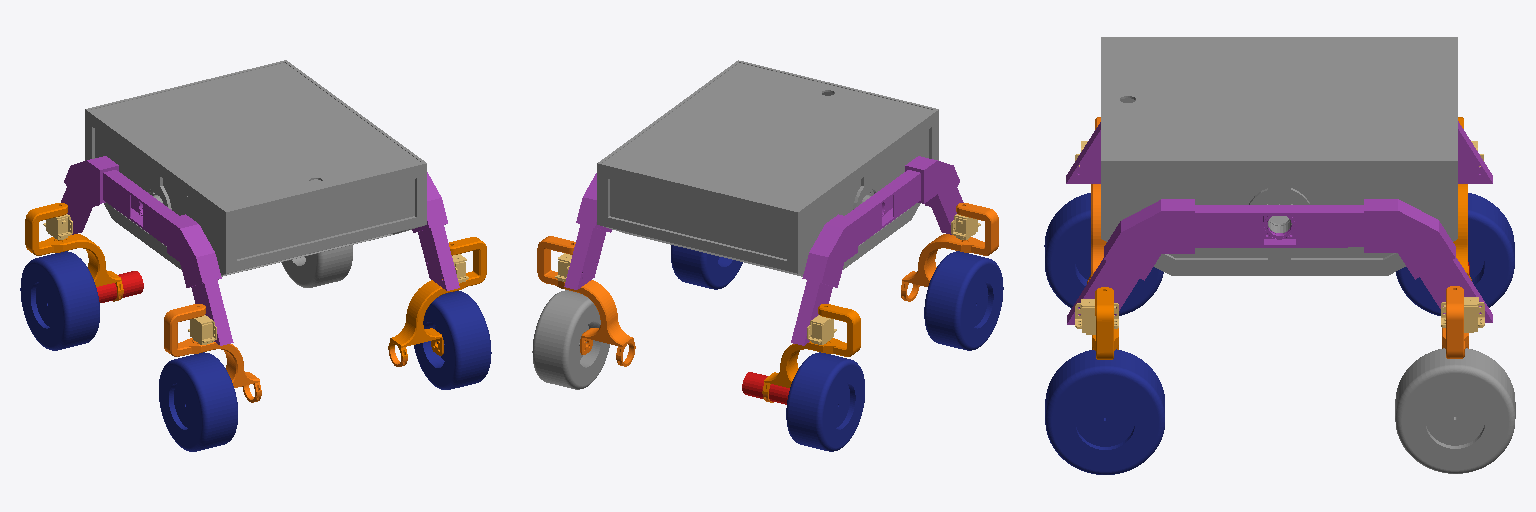
--- What the picture shows (computed from the rendered views, not written in the file) ---
The picture shows the robot from 3 angles, left to right: view 1: azimuth 30°, elevation 25°; view 2: azimuth 150°, elevation 25°; view 3: azimuth 270°, elevation 25°; orthographic projection.
Model rover with 23 links and 22 joints (6 revolute, 4 continuous, 12 fixed), rooted at body, posed every joint at zero.
Visible links, largest first — view 1: body, left_rocker, bl_whl, fl_whl, br_whl, br_steer, fl_steer, right_rocker, bl_steer, fr_whl, fl_motor, bl_servo (+1 smaller); view 2: body, left_rocker, bl_whl, fl_whl, fr_whl, fr_steer, bl_steer, right_rocker, fl_steer, br_whl, fl_motor, fl_servo (+1 smaller); view 3: body, right_rocker, fr_whl, br_whl, fl_whl, bl_whl, left_rocker, br_steer, fr_steer, bl_steer, fl_steer, fr_servo (+1 smaller).
Boxes of the visible links, x1=… form: body: x1=85, y1=60, x2=426, y2=276; left_rocker: x1=61, y1=156, x2=233, y2=345; bl_whl: x1=159, y1=352, x2=237, y2=451; fl_whl: x1=20, y1=251, x2=99, y2=350; br_whl: x1=414, y1=291, x2=491, y2=389; br_steer: x1=388, y1=237, x2=486, y2=358; fl_steer: x1=25, y1=203, x2=123, y2=292; right_rocker: x1=412, y1=172, x2=459, y2=290; bl_steer: x1=164, y1=304, x2=261, y2=393; fr_whl: x1=281, y1=245, x2=352, y2=287; fl_motor: x1=96, y1=271, x2=143, y2=302; bl_servo: x1=188, y1=315, x2=216, y2=344; body: x1=597, y1=60, x2=938, y2=276; left_rocker: x1=791, y1=156, x2=963, y2=345; bl_whl: x1=924, y1=251, x2=1003, y2=350; fl_whl: x1=786, y1=352, x2=864, y2=451; fr_whl: x1=532, y1=290, x2=609, y2=389; fr_steer: x1=537, y1=236, x2=635, y2=357; bl_steer: x1=901, y1=203, x2=998, y2=292; right_rocker: x1=564, y1=173, x2=611, y2=289; fl_steer: x1=762, y1=304, x2=860, y2=394; br_whl: x1=671, y1=245, x2=742, y2=289; fl_motor: x1=742, y1=372, x2=789, y2=404; fl_servo: x1=807, y1=315, x2=836, y2=344; body: x1=1101, y1=37, x2=1457, y2=275; right_rocker: x1=1067, y1=199, x2=1492, y2=324; fr_whl: x1=1395, y1=348, x2=1515, y2=473; br_whl: x1=1045, y1=349, x2=1164, y2=474; fl_whl: x1=1396, y1=193, x2=1514, y2=315; bl_whl: x1=1044, y1=193, x2=1163, y2=315; left_rocker: x1=1066, y1=121, x2=1492, y2=183; br_steer: x1=1092, y1=287, x2=1118, y2=359; fr_steer: x1=1442, y1=286, x2=1468, y2=358; bl_steer: x1=1087, y1=117, x2=1106, y2=283; fl_steer: x1=1453, y1=117, x2=1471, y2=280; fr_servo: x1=1441, y1=297, x2=1484, y2=332.
Size in the robot's own frame: 0.6178 by 0.6271 by 0.4243 metres.
20 mesh visuals loaded from 23 distinct referenced files (20 binary STL); not drawn: 3 (reference not matched to a file when rendering).

The robot description file, URDF, robot "rover":
<robot name="rover">

<link name="body">
<visual>
<origin xyz="-0.19343228599428496928 0.14395944821783071554 0.26237109907984806911" rpy="-1.5707963267948983344 -3.3355470534782881752e-15 -9.5394697344059988075e-16" />
<geometry>
<mesh filename="package://rover_description/rover_desc/body.stl"/>
</geometry>
<material name="body_material">
<color rgba="0.62745098039215685404 0.62745098039215685404 0.62745098039215685404 1.0"/>
</material>
</visual>
<collision>
<origin xyz="-0.19343228599428496928 0.14395944821783071554 0.26237109907984806911" rpy="-1.5707963267948983344 -3.3355470534782881752e-15 -9.5394697344059988075e-16" />
<geometry>
<mesh filename="package://rover_description/rover_desc/body.stl"/>
</geometry>
</collision>
<inertial>
<origin xyz="-0.0034322859941748047434 0.0020938861086602922335 0.35730795518198049665" rpy="0 0 0"/>
<mass value="14.890136874895455676" />
<inertia ixx="0.43250086301603934968" ixy="2.9721267248896739341e-14"  ixz="1.1704030822239045252e-09" iyy="0.37287690006963231104" iyz="-0.00013013794919542435871" izz="0.68054838135481388051" />
</inertial>
</link>


<link name="left_rocker">
<visual>
<origin xyz="0.07816000000000011827 0.14200000000000037592 0.01800000000000012701" rpy="-1.570796326794896558 -1.5707963267948950037 0" />
<geometry>
<mesh filename="package://rover_description/rover_desc/left_rocker.stl"/>
</geometry>
<material name="left_rocker_material">
<color rgba="0.68235294117647060652 0.33333333333333331483 0.73725490196078435901 1.0"/>
</material>
</visual>
<collision>
<origin xyz="0.07816000000000011827 0.14200000000000037592 0.01800000000000012701" rpy="-1.570796326794896558 -1.5707963267948950037 0" />
<geometry>
<mesh filename="package://rover_description/rover_desc/left_rocker.stl"/>
</geometry>
</collision>
<inertial>
<origin xyz="0.019843209810583496699 -1.0071465883498831317e-10 -0.01259379922047600478" rpy="0 0 0"/>
<mass value="3.1599156804225070339" />
<inertia ixx="0.091997687781411846553" ixy="3.6592889631047604478e-11"  ixz="6.6591014607623069029e-06" iyy="0.0045988888217397697403" iyz="3.1871321967513628805e-13" izz="0.095584816217209864209" />
</inertial>
</link>

<link name="fl_servo">
<visual>
<origin xyz="-0.034073937586584723825 -0.077213843876329818494 0.043400000000000132916" rpy="-1.570796326794896558 -1.5707963267948954478 0" />
<geometry>
<mesh filename="package://rover_description/rover_desc/fl_servo.stl"/>
</geometry>
<material name="fl_servo_material">
<color rgba="0.95294117647058818044 0.79607843137254896693 0.48627450980392156188 1.0"/>
</material>
</visual>
<collision>
<origin xyz="-0.034073937586584723825 -0.077213843876329818494 0.043400000000000132916" rpy="-1.570796326794896558 -1.5707963267948954478 0" />
<geometry>
<mesh filename="package://rover_description/rover_desc/fl_servo.stl"/>
</geometry>
</collision>
<inertial>
<origin xyz="0.0079700947515648021963 0.023817007874858756034 -0.012211397442198006213" rpy="0 0 0"/>
<mass value="0.30095826250826973602" />
<inertia ixx="6.1515020750386716097e-05" ixy="4.1386348707448021383e-07"  ixz="1.2153545413687036965e-06" iyy="5.6400683761713572004e-05" iyz="-7.0967198374895849115e-08" izz="9.1372734015628923228e-05" />
</inertial>
</link>

<link name="fl_steer">
<visual>
<origin xyz="0.056900000000000033884 -0.091013843876329769689 0.06867393758658507652" rpy="-1.570796326794901443 9.7218023302443306324e-16 -5.7863152934901557806e-19" />
<geometry>
<mesh filename="package://rover_description/rover_desc/fl_steer.stl"/>
</geometry>
<material name="fl_steer_material">
<color rgba="0.97254901960784312376 0.52941176470588235947 0.0039215686274509803377 1.0"/>
</material>
</visual>
<collision>
<origin xyz="0.056900000000000033884 -0.091013843876329769689 0.06867393758658507652" rpy="-1.570796326794901443 9.7218023302443306324e-16 -5.7863152934901557806e-19" />
<geometry>
<mesh filename="package://rover_description/rover_desc/fl_steer.stl"/>
</geometry>
</collision>
<inertial>
<origin xyz="0.021796088565620277966 -3.4269795938512981337e-07 -0.022257353183229824228" rpy="0 0 0"/>
<mass value="1.3486655156843314618" />
<inertia ixx="0.0036322882753136629362" ixy="-1.3750609455605709302e-08"  ixz="0.0026697404360839158133" iyy="0.0068253606450100548497" iyz="4.2296529827094503289e-08" izz="0.0034338949276419452987" />
</inertial>
</link>

<link name="fl_motor">
<visual>
<origin xyz="-0.028999999999999998002 0.002999999999999974909 -0.11825000000000004952" rpy="1.570796326794896558 5.421257686680294571e-32 -9.7638531054305158568e-33" />
<geometry>
<mesh filename="package://rover_description/rover_desc/fl_motor.stl"/>
</geometry>
<material name="fl_motor_material">
<color rgba="0.86666666666666669627 0.13333333333333333148 0.13333333333333333148 1.0"/>
</material>
</visual>
<collision>
<origin xyz="-0.028999999999999998002 0.002999999999999974909 -0.11825000000000004952" rpy="1.570796326794896558 5.421257686680294571e-32 -9.7638531054305158568e-33" />
<geometry>
<mesh filename="package://rover_description/rover_desc/fl_motor.stl"/>
</geometry>
</collision>
<inertial>
<origin xyz="0.0081633417621368303818 -0.0080748979523884763937 -0.063711508697810809165" rpy="0 0 0"/>
<mass value="1.1669635249832903678" />
<inertia ixx="0.0014435661258087530319" ixy="2.7173683331507626971e-09"  ixz="5.1318365618333701989e-07" iyy="0.0014456129621376958855" iyz="-2.4540570541830781249e-07" izz="0.00022941596317910245952" />
</inertial>
</link>

<link name="fl_whl">
<visual>
<origin xyz="-0.18104393758658485214 -0.091013843608109823435 0.050899999999998529754" rpy="-1.57079632679489678 -1.570796326794891451 0" />
<geometry>
<mesh filename="package://rover_description/rover_desc/fl_whl.stl"/>
</geometry>
<material name="fl_whl_material">
<color rgba="0.18823529411764705621 0.2313725490196078538 0.58823529411764707842 1.0"/>
</material>
</visual>
<collision>
<origin xyz="-0.18104393758658485214 -0.091013843608109823435 0.050899999999998529754" rpy="-1.57079632679489678 -1.570796326794891451 0" />
<geometry>
<mesh filename="package://rover_description/rover_desc/fl_whl.stl"/>
</geometry>
</collision>
<inertial>
<origin xyz="-7.9178013523293577987e-17 -9.7144514654701197287e-17 -0.0070773280698739971309" rpy="0 0 0"/>
<mass value="1.3365750692679565503" />
<inertia ixx="0.002829424224058673179" ixy="-2.1539453691249887424e-19"  ixz="4.2738442004738362441e-18" iyy="0.002829424224058673179" iyz="8.5390822538103700404e-18" izz="0.0046912485783696094427" />
</inertial>
</link>

<joint name="fl_wheel" type="continuous">
<origin xyz="0.0079999999999995630162 -0.0079999999999979809484 0.023499999999998494316" rpy="3.1415926535897926719 -5.7430720689678564416e-16 2.5563346814631189297" />
<parent link="fl_motor" />
<child link="fl_whl" />
<axis xyz="0 0 1"/>
<limit effort="1" velocity="20" />
<joint_properties friction="0.0"/>
</joint>

<joint name="FL_Motor2Mount" type="fixed">
<origin xyz="0.029500000000000720091 -0.0080000002682209248039 -0.10437000000000032363" rpy="-3.1415926535897926719 1.570796326794891451 0" />
<parent link="fl_steer" />
<child link="fl_motor" />
<axis xyz="0 0 1"/>
<limit effort="1" velocity="20" />
<joint_properties friction="0.0"/>
</joint>

<link name="fl_clamp">
<visual>
<origin xyz="-0.047600000000000530775 -0.11250057860073051086 0.18179393758658513036" rpy="-1.5707963267949001107 2.2947746081961756375e-15 -5.7863152935050374413e-19" />
<geometry>
<mesh filename="package://rover_description/rover_desc/fl_clamp.stl"/>
</geometry>
<material name="fl_clamp_material">
<color rgba="1 0.52156862745098042655 0.10196078431372548878 1.0"/>
</material>
</visual>
<collision>
<origin xyz="-0.047600000000000530775 -0.11250057860073051086 0.18179393758658513036" rpy="-1.5707963267949001107 2.2947746081961756375e-15 -5.7863152935050374413e-19" />
<geometry>
<mesh filename="package://rover_description/rover_desc/fl_clamp.stl"/>
</geometry>
</collision>
<inertial>
<origin xyz="-1.0621386825615530825e-09 -0.021486142739031308113 -0.013953120641351964004" rpy="0 0 0"/>
<mass value="0.023562966261883398073" />
<inertia ixx="5.8649646333848660368e-06" ixy="8.0054195219834950149e-12"  ixz="1.2846874940053395266e-12" iyy="1.1647538922670263761e-06" iyz="-1.2018458141570976938e-10" izz="5.1248936208296153987e-06" />
</inertial>
</link>

<joint name="FL_Clamp2Mount" type="fixed">
<origin xyz="0.10450000000000081446 0.02148673472440049137 -0.11162000000000021904" rpy="-1.3191487418674471279e-15 -1.3225943751717407993e-15 -5.7863152934430677564e-19" />
<parent link="fl_steer" />
<child link="fl_clamp" />
<axis xyz="0 0 1"/>
<limit effort="1" velocity="20" />
<joint_properties friction="0.0"/>
</joint>

<joint name="FL_Steer2Servo" type="revolute">
<origin xyz="0.034599999999999991873 0.013800000000000367528 -0.013499999999999900968" rpy="-1.5707963267943512164 -1.5667839918887107586 1.5707963267946660757" />
<parent link="fl_servo" />
<child link="fl_steer" />
<axis xyz="0 0 1"/>
<limit effort="1" velocity="20" lower="-1.0471975511965976313" upper="1.0471975511965976313"/>
<joint_properties friction="0.0"/>
</joint>

<joint name="FL_Servo2Rocker" type="fixed">
<origin xyz="0.11223393758658459229 0.21921384387633149893 -0.025399999999999700595" rpy="-7.5158228832025782511e-16 1.4251748903082761431e-15 1.5777218104420229102e-30" />
<parent link="left_rocker" />
<child link="fl_servo" />
<axis xyz="0 0 1"/>
<limit effort="1" velocity="20" />
<joint_properties friction="0.0"/>
</joint>

<link name="bl_servo">
<visual>
<origin xyz="-0.034073937586588359805 0.36121384387633087565 0.043400000000000493738" rpy="-1.570796326794896558 -1.5707963267948950037 0" />
<geometry>
<mesh filename="package://rover_description/rover_desc/bl_servo.stl"/>
</geometry>
<material name="bl_servo_material">
<color rgba="0.95294117647058818044 0.79607843137254896693 0.48627450980392156188 1.0"/>
</material>
</visual>
<collision>
<origin xyz="-0.034073937586588359805 0.36121384387633087565 0.043400000000000493738" rpy="-1.570796326794896558 -1.5707963267948950037 0" />
<geometry>
<mesh filename="package://rover_description/rover_desc/bl_servo.stl"/>
</geometry>
</collision>
<inertial>
<origin xyz="0.007970094751564916688 -0.023817007874858575622 -0.012211397442197985397" rpy="0 0 0"/>
<mass value="0.30095826250826984705" />
<inertia ixx="6.1515020750386743202e-05" ixy="-4.1386348707453214753e-07"  ixz="1.2153545413686098876e-06" iyy="5.6400683761713572004e-05" iyz="7.0967198374668420769e-08" izz="9.1372734015628963885e-05" />
</inertial>
</link>

<link name="bl_steer">
<visual>
<origin xyz="0.056900000000000089395 0.3750138438763308546 0.068673937586589073323" rpy="-1.5707963267948947816 1.0259804808888011719e-15 -2.2516610801147431128e-19" />
<geometry>
<mesh filename="package://rover_description/rover_desc/bl_steer.stl"/>
</geometry>
<material name="bl_steer_material">
<color rgba="1 0.52156862745098042655 0.10196078431372548878 1.0"/>
</material>
</visual>
<collision>
<origin xyz="0.056900000000000089395 0.3750138438763308546 0.068673937586589073323" rpy="-1.5707963267948947816 1.0259804808888011719e-15 -2.2516610801147431128e-19" />
<geometry>
<mesh filename="package://rover_description/rover_desc/bl_steer.stl"/>
</geometry>
</collision>
<inertial>
<origin xyz="0.021796088565502275136 4.2836195762729900594e-07 -0.0222573531832480076" rpy="0 0 0"/>
<mass value="1.3486655156810449796" />
<inertia ixx="0.0036322882752310749199" ixy="8.9151877740356255028e-09"  ixz="0.0026697404360826525009" iyy="0.0068253606450098865815" iyz="-3.3253112102159356026e-08" izz="0.0034338949275451989031" />
</inertial>
</link>

<link name="bl_motor">
<visual>
<origin xyz="-0.028999999999999984124 0.0030000000000000026645 -0.11825000000000003564" rpy="1.570796326794896558 -3.2298776845706547017e-31 -2.3153937587166193837e-32" />
<geometry>
<mesh filename="package://rover_description/rover_desc/bl_motor.stl"/>
</geometry>
<material name="bl_motor_material">
<color rgba="0.86666666666666669627 0.13333333333333333148 0.13333333333333333148 1.0"/>
</material>
</visual>
<collision>
<origin xyz="-0.028999999999999984124 0.0030000000000000026645 -0.11825000000000003564" rpy="1.570796326794896558 -3.2298776845706547017e-31 -2.3153937587166193837e-32" />
<geometry>
<mesh filename="package://rover_description/rover_desc/bl_motor.stl"/>
</geometry>
</collision>
<inertial>
<origin xyz="0.0081633417621368442596 -0.0080748979523884469034 -0.063711508697810809165" rpy="0 0 0"/>
<mass value="1.1669635249832903678" />
<inertia ixx="0.0014435661258087530319" ixy="2.7173683331513843233e-09"  ixz="5.1318365618334856072e-07" iyy="0.0014456129621376954519" iyz="-2.4540570541830273029e-07" izz="0.00022941596317910243241" />
</inertial>
</link>

<link name="bl_whl">
<visual>
<origin xyz="-0.18104393758658796076 0.37501384414455324334 0.050899999999998446487" rpy="-1.570796326794896558 -1.5707963267948921171 0" />
<geometry>
<mesh filename="package://rover_description/rover_desc/bl_whl.stl"/>
</geometry>
<material name="bl_whl_material">
<color rgba="0.18823529411764705621 0.2313725490196078538 0.58823529411764707842 1.0"/>
</material>
</visual>
<collision>
<origin xyz="-0.18104393758658796076 0.37501384414455324334 0.050899999999998446487" rpy="-1.570796326794896558 -1.5707963267948921171 0" />
<geometry>
<mesh filename="package://rover_description/rover_desc/bl_whl.stl"/>
</geometry>
</collision>
<inertial>
<origin xyz="-6.0984259665726272122e-17 -1.1102230246251565404e-16 -0.0070773280698740240191" rpy="0 0 0"/>
<mass value="1.3365750692679563283" />
<inertia ixx="0.0028294242240586723117" ixy="-2.8075497875679871817e-19"  ixz="1.9100519512254011122e-18" iyy="0.0028294242240586740464" iyz="8.3560769281583097021e-18" izz="0.004691248578369607708" />
</inertial>
</link>

<joint name="bl_wheel" type="continuous">
<origin xyz="0.0079999999999999793499 -0.0079999999999998128164 0.023500000000000076383" rpy="3.1415926535897926719 2.4528544646838575776e-16 2.5563346814631637827" />
<parent link="bl_motor" />
<child link="bl_whl" />
<axis xyz="0 0 1"/>
<limit effort="1" velocity="20" />
<joint_properties friction="0.0"/>
</joint>

<joint name="BL_Motor2Mount" type="fixed">
<origin xyz="0.029500000000000331513 -0.0080000002682207305149 -0.10436999999999960198" rpy="-3.1415926535897922278 1.5707963267948943376 0" />
<parent link="bl_steer" />
<child link="bl_motor" />
<axis xyz="0 0 1"/>
<limit effort="1" velocity="20" />
<joint_properties friction="0.0"/>
</joint>

<link name="bl_clamp">
<visual>
<origin xyz="-0.047600000000000003419 0.35352710915193058527 0.18179393758658762836" rpy="-1.5707963267948972241 2.2462499910870153881e-15 -2.0161291737649410925e-19" />
<geometry>
<mesh filename="package://rover_description/rover_desc/bl_clamp.stl"/>
</geometry>
<material name="bl_clamp_material">
<color rgba="1 0.52156862745098042655 0.10196078431372548878 1.0"/>
</material>
</visual>
<collision>
<origin xyz="-0.047600000000000003419 0.35352710915193058527 0.18179393758658762836" rpy="-1.5707963267948972241 2.2462499910870153881e-15 -2.0161291737649410925e-19" />
<geometry>
<mesh filename="package://rover_description/rover_desc/bl_clamp.stl"/>
</geometry>
</collision>
<inertial>
<origin xyz="-1.0621386548059774668e-09 -0.021486142739031488524 -0.01395312064135205421" rpy="0 0 0"/>
<mass value="0.023562966261883144803" />
<inertia ixx="5.8649646333847804864e-06" ixy="8.0054195353524769323e-12"  ixz="1.2846874971607049935e-12" iyy="1.164753892267009859e-06" iyz="-1.2018458138789618317e-10" izz="5.1248936208295408598e-06" />
</inertial>
</link>

<joint name="BL_Clamp2Mount" type="fixed">
<origin xyz="0.10450000000000017608 0.021486734724400657903 -0.11161999999999946964" rpy="4.297839667967753496e-16 5.6655398768737880863e-18 -2.2516610801413402054e-19" />
<parent link="bl_steer" />
<child link="bl_clamp" />
<axis xyz="0 0 1"/>
<limit effort="1" velocity="20" />
<joint_properties friction="0.0"/>
</joint>

<joint name="BL_Steer2Servo" type="revolute">
<origin xyz="0.034600000000000102895 -0.013800000000000173239 -0.013500000000000039746" rpy="-1.5707963267952376185 -1.566783991888712757 1.5707963267956142062" />
<parent link="bl_servo" />
<child link="bl_steer" />
<axis xyz="0 0 1"/>
<limit effort="1" velocity="20" lower="-1.0471975511965976313" upper="1.0471975511965976313"/>
<joint_properties friction="0.0"/>
</joint>

<joint name="BL_Servo2Rocker" type="fixed">
<origin xyz="0.11223393758658836705 -0.21921384387633077728 -0.025400000000000255707" rpy="-2.7483631710412831567e-15 1.3713746424438999486e-15 0" />
<parent link="left_rocker" />
<child link="bl_servo" />
<axis xyz="0 0 1"/>
<limit effort="1" velocity="20" />
<joint_properties friction="0.0"/>
</joint>

<joint name="l_rocker2body" type="revolute">
<origin xyz="-0.21143228599428551262 0.0019594482178305061559 0.34053109907984824289" rpy="-8.0380829845163244361e-16 1.5707963267948907848 0" />
<parent link="body" />
<child link="left_rocker" />
<axis xyz="0 0 1"/>
<limit effort="1" velocity="20" lower="-0.52359877559829881566" upper="0.52359877559829881566"/>
<joint_properties friction="0.0"/>
</joint>

<gazebo reference="l_rocker2body">
    <provideFeedback>true</provideFeedback>
    <implicitSpringDamper>true</implicitSpringDamper>
    <springStiffness>100.0</springStiffness>
    <springReference>0.0</springReference>
</gazebo>

<link name="right_rocker">
<visual>
<origin xyz="0.078160000000000728893 -0.14199999999999982081 0.39800000000000024247" rpy="1.570796326794896558 1.5707963267948945596 0" />
<geometry>
<mesh filename="package://rover_description/rover_desc/right_rocker.stl"/>
</geometry>
<material name="right_rocker_material">
<color rgba="0.68235294117647060652 0.33333333333333331483 0.73725490196078435901 1.0"/>
</material>
</visual>
<collision>
<origin xyz="0.078160000000000728893 -0.14199999999999982081 0.39800000000000024247" rpy="1.570796326794896558 1.5707963267948945596 0" />
<geometry>
<mesh filename="package://rover_description/rover_desc/right_rocker.stl"/>
</geometry>
</collision>
<inertial>
<origin xyz="0.019749845958477146857 -1.0151601781416275116e-10 -0.012563787207807319835" rpy="0 0 0"/>
<mass value="3.1748536151173403219" />
<inertia ixx="0.092000731965220239328" ixy="3.6644812894457526487e-11"  ixz="8.5409407367578405932e-06" iyy="0.0046077871870401944376" iyz="3.337613462120723989e-13" izz="0.095595491905617502315" />
</inertial>
</link>

<link name="fr_servo">
<visual>
<origin xyz="-0.034073937586587610404 0.077213843876329651961 0.4234000000000001096" rpy="1.570796326794896558 1.5707963267948947816 0" />
<geometry>
<mesh filename="package://rover_description/rover_desc/fr_servo.stl"/>
</geometry>
<material name="fr_servo_material">
<color rgba="0.95294117647058818044 0.79607843137254896693 0.48627450980392156188 1.0"/>
</material>
</visual>
<collision>
<origin xyz="-0.034073937586587610404 0.077213843876329651961 0.4234000000000001096" rpy="1.570796326794896558 1.5707963267948947816 0" />
<geometry>
<mesh filename="package://rover_description/rover_desc/fr_servo.stl"/>
</geometry>
</collision>
<inertial>
<origin xyz="0.0079700947515648403602 -0.023817007874858520111 -0.01221139744219790213" rpy="0 0 0"/>
<mass value="0.30095826250826984705" />
<inertia ixx="6.1515020750386607677e-05" ixy="-4.1386348707453971789e-07"  ixz="1.2153545413685711358e-06" iyy="5.6400683761713395821e-05" iyz="7.0967198374693580295e-08" izz="9.137273401562877415e-05" />
</inertial>
</link>

<link name="fr_steer">
<visual>
<origin xyz="-0.43690000000000006608 -0.091013843876329908467 0.068673937586587685544" rpy="-1.5707963267948976682 -1.6286182669569800446e-15 -2.4337315947146275507e-32" />
<geometry>
<mesh filename="package://rover_description/rover_desc/fr_steer.stl"/>
</geometry>
<material name="fr_steer_material">
<color rgba="1 0.52156862745098042655 0.10196078431372548878 1.0"/>
</material>
</visual>
<collision>
<origin xyz="-0.43690000000000006608 -0.091013843876329908467 0.068673937586587685544" rpy="-1.5707963267948976682 -1.6286182669569800446e-15 -2.4337315947146275507e-32" />
<geometry>
<mesh filename="package://rover_description/rover_desc/fr_steer.stl"/>
</geometry>
</collision>
<inertial>
<origin xyz="-0.021796088565566140716 -4.2836189803607815918e-07 -0.022257353183248288625" rpy="0 0 0"/>
<mass value="1.3486655156810425371" />
<inertia ixx="0.0036322882752310636442" ixy="8.9151874335952450242e-09"  ixz="-0.0026697404360826676797" iyy="0.0068253606450099073982" iyz="3.3253111821837574076e-08" izz="0.0034338949275452283934" />
</inertial>
</link>

<link name="fr_motor">
<visual>
<origin xyz="-0.045000000000000012212 0.0030000000000000026645 -0.11824999999999996625" rpy="1.570796326794896558 1.0103251656619010782e-31 -1.4652627824245612462e-20" />
<geometry>
<mesh filename="package://rover_description/rover_desc/fr_motor.stl"/>
</geometry>
<material name="fr_motor_material">
<color rgba="0.86666666666666669627 0.13333333333333333148 0.13333333333333333148 1.0"/>
</material>
</visual>
<collision>
<origin xyz="-0.045000000000000012212 0.0030000000000000026645 -0.11824999999999996625" rpy="1.570796326794896558 1.0103251656619010782e-31 -1.4652627824245612462e-20" />
<geometry>
<mesh filename="package://rover_description/rover_desc/fr_motor.stl"/>
</geometry>
</collision>
<inertial>
<origin xyz="-0.007836658237863183829 -0.0080748979523884469034 -0.063711508697810725899" rpy="0 0 0"/>
<mass value="1.1669635249832908119" />
<inertia ixx="0.0014435661258087525982" ixy="2.7173683331507382952e-09"  ixz="5.1318365618334231385e-07" iyy="0.0014456129621376950182" iyz="-2.4540570541830696546e-07" izz="0.00022941596317910240531" />
</inertial>
</link>

<link name="fr_whl">
<visual>
<origin xyz="-0.18104393758658596236 0.091013844144441857775 0.43089999999992534274" rpy="1.570796326794896558 1.5707963267944513586 0" />
<geometry>
<mesh filename="package://rover_description/rover_desc/fr_whl.stl"/>
</geometry>
<material name="fr_whl_material">
<color rgba="0.62745098039215685404 0.62745098039215685404 0.62745098039215685404 1.0"/>
</material>
</visual>
<collision>
<origin xyz="-0.18104393758658596236 0.091013844144441857775 0.43089999999992534274" rpy="1.570796326794896558 1.5707963267944513586 0" />
<geometry>
<mesh filename="package://rover_description/rover_desc/fr_whl.stl"/>
</geometry>
</collision>
<inertial>
<origin xyz="-3.7780957575932811979e-17 -9.7144514654701197287e-17 -0.0070773280698740448358" rpy="0 0 0"/>
<mass value="1.336575069267954996" />
<inertia ixx="0.0028294242240586723117" ixy="8.9011910890896127632e-33"  ixz="8.6557311137229842599e-18" iyy="0.0028294242240586705769" iyz="1.8882932990998236513e-18" izz="0.0046912485783696059732" />
</inertial>
</link>

<joint name="fr_wheel" type="continuous">
<origin xyz="-0.0080000000000000626166 -0.0079999999999999793499 0.023500000000000048628" rpy="-3.141592653589793116 -1.2616348761332487262e-27 3.1378367530413813213" />
<parent link="fr_motor" />
<child link="fr_whl" />
<axis xyz="0 0 1"/>
<limit effort="1" velocity="20" />
<joint_properties friction="0.0"/>
</joint>

<joint name="FR_Motor2Mount" type="fixed">
<origin xyz="-0.029500000000063808514 -0.0079999997317199977864 -0.10436999999999974076" rpy="-3.1415926535896825378 -1.5707963267948925612 0" />
<parent link="fr_steer" />
<child link="fr_motor" />
<axis xyz="0 0 1"/>
<limit effort="1" velocity="20" />
<joint_properties friction="0.0"/>
</joint>

<link name="fr_clamp">
<visual>
<origin xyz="-0.33239999999993363744 -0.11250057913722313896 0.18179393758658574098" rpy="-1.5707963267948976682 -5.5927484865492402719e-15 4.5342763853053979933e-32" />
<geometry>
<mesh filename="package://rover_description/rover_desc/fr_clamp.stl"/>
</geometry>
<material name="fr_clamp_material">
<color rgba="1 0.52156862745098042655 0.10196078431372548878 1.0"/>
</material>
</visual>
<collision>
<origin xyz="-0.33239999999993363744 -0.11250057913722313896 0.18179393758658574098" rpy="-1.5707963267948976682 -5.5927484865492402719e-15 4.5342763853053979933e-32" />
<geometry>
<mesh filename="package://rover_description/rover_desc/fr_clamp.stl"/>
</geometry>
</collision>
<inertial>
<origin xyz="1.0621409307631779484e-09 -0.021487327246212065135 -0.013953120641351839104" rpy="0 0 0"/>
<mass value="0.023562966261883321745" />
<inertia ixx="5.8649646333849312583e-06" ixy="8.0054200433861070288e-12"  ixz="-1.2846874875787233356e-12" iyy="1.1647538922670318818e-06" iyz="1.2018458145444898976e-10" izz="5.1248936208296628326e-06" />
</inertial>
</link>

<joint name="FR_Clamp2Mount" type="fixed">
<origin xyz="-0.10450000000006709477 0.021486735260893480293 -0.11161999999999966393" rpy="8.8444140894472082179e-17 3.9641302195922511554e-15 -8.1071766067163712513e-30" />
<parent link="fr_steer" />
<child link="fr_clamp" />
<axis xyz="0 0 1"/>
<limit effort="1" velocity="20" />
<joint_properties friction="0.0"/>
</joint>

<joint name="FR_Steer2Servo" type="revolute">
<origin xyz="0.034600000000000019629 -0.013800000000000034461 -0.013499999999999984235" rpy="-3.1415926535897922278 1.5707963267948945596 0" />
<parent link="fr_servo" />
<child link="fr_steer" />
<axis xyz="0 0 1"/>
<limit effort="1" velocity="20" lower="-1.0471975511965976313" upper="1.0471975511965976313"/>
<joint_properties friction="0.0"/>
</joint>

<joint name="FR_Servo2Rocker" type="fixed">
<origin xyz="0.11223393758658814501 -0.21921384387633036095 -0.025400000000000616529" rpy="-2.4134538591578045008e-16 -2.0555539217396999166e-17 3.1489024047051702671e-19" />
<parent link="right_rocker" />
<child link="fr_servo" />
<axis xyz="0 0 1"/>
<limit effort="1" velocity="20" />
<joint_properties friction="0.0"/>
</joint>

<link name="br_servo">
<visual>
<origin xyz="-0.034073937586584585047 -0.36121384387633004298 0.42339999999999999858" rpy="1.570796326794896558 1.5707963267948950037 0" />
<geometry>
<mesh filename="package://rover_description/rover_desc/br_servo.stl"/>
</geometry>
<material name="br_servo_material">
<color rgba="0.95294117647058818044 0.79607843137254896693 0.48627450980392156188 1.0"/>
</material>
</visual>
<collision>
<origin xyz="-0.034073937586584585047 -0.36121384387633004298 0.42339999999999999858" rpy="1.570796326794896558 1.5707963267948950037 0" />
<geometry>
<mesh filename="package://rover_description/rover_desc/br_servo.stl"/>
</geometry>
</collision>
<inertial>
<origin xyz="0.007970094751564509028 0.02381700787480783843 -0.012211397442186633366" rpy="0 0 0"/>
<mass value="0.3009582625082701246" />
<inertia ixx="6.1515020750379275759e-05" ixy="4.1386348710015780586e-07"  ixz="1.2153545413628288877e-06" iyy="5.6400683761704518916e-05" iyz="-7.096719839154229646e-08" izz="9.1372734015629858352e-05" />
</inertial>
</link>

<link name="br_steer">
<visual>
<origin xyz="-0.43689999999998418989 0.37501384387626873762 0.068673937586585853676" rpy="-1.5707963267948921171 -1.574818019091989919e-15 -2.67551987683194984e-32" />
<geometry>
<mesh filename="package://rover_description/rover_desc/br_steer.stl"/>
</geometry>
<material name="br_steer_material">
<color rgba="0.97254901960784312376 0.52941176470588235947 0.0039215686274509803377 1.0"/>
</material>
</visual>
<collision>
<origin xyz="-0.43689999999998418989 0.37501384387626873762 0.068673937586585853676" rpy="-1.5707963267948921171 -1.574818019091989919e-15 -2.67551987683194984e-32" />
<geometry>
<mesh filename="package://rover_description/rover_desc/br_steer.stl"/>
</geometry>
</collision>
<inertial>
<origin xyz="-0.021796088565727067543 3.4269791349128553293e-07 -0.022257353183423318754" rpy="0 0 0"/>
<mass value="1.348665515689196237" />
<inertia ixx="0.0036322882753268906364" ixy="-1.3750611663390406009e-08"  ixz="-0.0026697404360926952488" iyy="0.0068253606450268313605" iyz="-4.2296533427855762063e-08" izz="0.0034338949276469890072" />
</inertial>
</link>

<link name="br_motor">
<visual>
<origin xyz="-0.044999999999999998335 0.0030000000000000026645 -0.11825000000000000788" rpy="1.570796326794896558 -1.8202362472477753605e-31 -8.1542138269875287543e-20" />
<geometry>
<mesh filename="package://rover_description/rover_desc/br_motor.stl"/>
</geometry>
<material name="br_motor_material">
<color rgba="0.86666666666666669627 0.13333333333333333148 0.13333333333333333148 1.0"/>
</material>
</visual>
<collision>
<origin xyz="-0.044999999999999998335 0.0030000000000000026645 -0.11825000000000000788" rpy="1.570796326794896558 -1.8202362472477753605e-31 -8.1542138269875287543e-20" />
<geometry>
<mesh filename="package://rover_description/rover_desc/br_motor.stl"/>
</geometry>
</collision>
<inertial>
<origin xyz="-0.0078366582378631699513 -0.0080748979523884469034 -0.06371150869781078141" rpy="0 0 0"/>
<mass value="1.1669635249832903678" />
<inertia ixx="0.0014435661258087528151" ixy="2.7173683331516411629e-09"  ixz="5.13183656183343055e-07" iyy="0.0014456129621376954519" iyz="-2.4540570541830770661e-07" izz="0.00022941596317910245952" />
</inertial>
</link>

<link name="br_whl">
<visual>
<origin xyz="-0.18104393758658479663 -0.37501384360837108911 0.43089999999995631796" rpy="1.570796326794896558 1.5707963267944542451 0" />
<geometry>
<mesh filename="package://rover_description/rover_desc/br_whl.stl"/>
</geometry>
<material name="br_whl_material">
<color rgba="0.18823529411764705621 0.2313725490196078538 0.58823529411764707842 1.0"/>
</material>
</visual>
<collision>
<origin xyz="-0.18104393758658479663 -0.37501384360837108911 0.43089999999995631796" rpy="1.570796326794896558 1.5707963267944542451 0" />
<geometry>
<mesh filename="package://rover_description/rover_desc/br_whl.stl"/>
</geometry>
</collision>
<inertial>
<origin xyz="-2.3005062834584412123e-17 -4.9960036108132044319e-16 -0.0070773280698739338135" rpy="0 0 0"/>
<mass value="1.3365750692679554401" />
<inertia ixx="0.002829424224058673179" ixy="1.2676769905745770879e-33"  ixz="9.2370861885585338964e-19" iyy="0.0028294242240586723117" iyz="7.8547204682554869206e-19" izz="0.004691248578369607708" />
</inertial>
</link>

<joint name="br_wheel" type="continuous">
<origin xyz="-0.0080000000000000071054 -0.0079999999999999793499 0.023499999999999993117" rpy="-3.141592653589793116 -3.3565753444764130465e-30 3.1378367530413666664" />
<parent link="br_motor" />
<child link="br_whl" />
<axis xyz="0 0 1"/>
<limit effort="1" velocity="20" />
<joint_properties friction="0.0"/>
</joint>

<joint name="BR_Motor2Mount" type="fixed">
<origin xyz="-0.029499999999998888223 -0.0079999997317824755871 -0.10437000000000022648" rpy="-3.1415926535896829819 -1.5707963267948921171 0" />
<parent link="br_steer" />
<child link="br_motor" />
<axis xyz="0 0 1"/>
<limit effort="1" velocity="20" />
<joint_properties friction="0.0"/>
</joint>

<link name="br_clamp">
<visual>
<origin xyz="-0.33239999999998193214 0.35352710861543823473 0.18179393758658546343" rpy="-1.5707963267948934494 -1.4953316362921737706e-15 2.3825656186268124474e-33" />
<geometry>
<mesh filename="package://rover_description/rover_desc/br_clamp.stl"/>
</geometry>
<material name="br_clamp_material">
<color rgba="1 0.52156862745098042655 0.10196078431372548878 1.0"/>
</material>
</visual>
<collision>
<origin xyz="-0.33239999999998193214 0.35352710861543823473 0.18179393758658546343" rpy="-1.5707963267948934494 -1.4953316362921737706e-15 2.3825656186268124474e-33" />
<geometry>
<mesh filename="package://rover_description/rover_desc/br_clamp.stl"/>
</geometry>
</collision>
<inertial>
<origin xyz="1.0621408752520267171e-09 -0.021487327246211943704 -0.013953120641351835635" rpy="0 0 0"/>
<mass value="0.023562966261883578484" />
<inertia ixx="5.8649646333849685278e-06" ixy="8.0054200309620513299e-12"  ixz="-1.284687488006020687e-12" iyy="1.1647538922670395051e-06" iyz="1.2018458145652224042e-10" izz="5.1248936208297043372e-06" />
</inertial>
</link>

<joint name="BR_Clamp2Mount" type="fixed">
<origin xyz="-0.10450000000000228551 0.021486735260830752692 -0.11162000000000010802" rpy="1.5329313582824529832e-15 -7.9486382799815655376e-17 2.0257153139395525174e-30" />
<parent link="br_steer" />
<child link="br_clamp" />
<axis xyz="0 0 1"/>
<limit effort="1" velocity="20" />
<joint_properties friction="0.0"/>
</joint>

<joint name="BR_Steer2Servo" type="revolute">
<origin xyz="0.034599999999999603295 0.013799999999938222794 -0.013499999999985107246" rpy="3.1415926535897886751 1.5707963267948961139 0" />
<parent link="br_servo" />
<child link="br_steer" />
<axis xyz="0 0 1"/>
<limit effort="1" velocity="20" lower="-1.0471975511965976313" upper="1.0471975511965976313"/>
<joint_properties friction="0.0"/>
</joint>

<joint name="BR_Servo2Rocker" type="fixed">
<origin xyz="0.11223393758658470332 0.21921384387633208179 -0.025400000000000005906" rpy="3.1722415169865354398e-16 1.8314944689513809452e-16 3.1489024047051702671e-19" />
<parent link="right_rocker" />
<child link="br_servo" />
<axis xyz="0 0 1"/>
<limit effort="1" velocity="20" />
<joint_properties friction="0.0"/>
</joint>

<joint name="r_rocker2body" type="revolute">
<origin xyz="0.20456771400571505115 0.001959448217830700445 0.34053109907984957516" rpy="-1.5707963267953113373 1.5670404262464796563 1.5707963267944826669" />
<parent link="body" />
<child link="right_rocker" />
<axis xyz="0 0 1"/>
<limit effort="1" velocity="20" lower="-0.52359877559829881566" upper="0.52359877559829881566"/>
<joint_properties friction="0.0"/>
</joint>

<gazebo reference="r_rocker2body">
    <provideFeedback>true</provideFeedback>
    <implicitSpringDamper>true</implicitSpringDamper>
    <springStiffness>500.0</springStiffness>
    <springReference>0.0</springReference>
    <friction>0.75</friction>
</gazebo>

<gazebo>
<plugin
    name="gazebo_ros_4ws"
    filename="libgazebo_ros_four_wheel_steering.so">
    <steering_gear_transmission_ratio>1.6</steering_gear_transmission_ratio>
    <front_right_motor_pid_gain>400 10 1</front_right_motor_pid_gain>
    <front_left_motor_pid_gain>400 10 1</front_left_motor_pid_gain>
    <rear_right_motor_pid_gain>400 10 1</rear_right_motor_pid_gain>
    <rear_left_motor_pid_gain>400 10 1</rear_left_motor_pid_gain>
    <front_steering_pid_gain>4000 100 2</front_steering_pid_gain>
    <rear_steering_pid_gain>4000 100 2</rear_steering_pid_gain>
</plugin>
</gazebo>

</robot>
